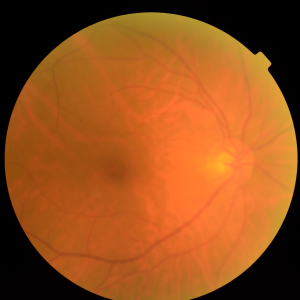cataract: (63, 104, 276, 228)
